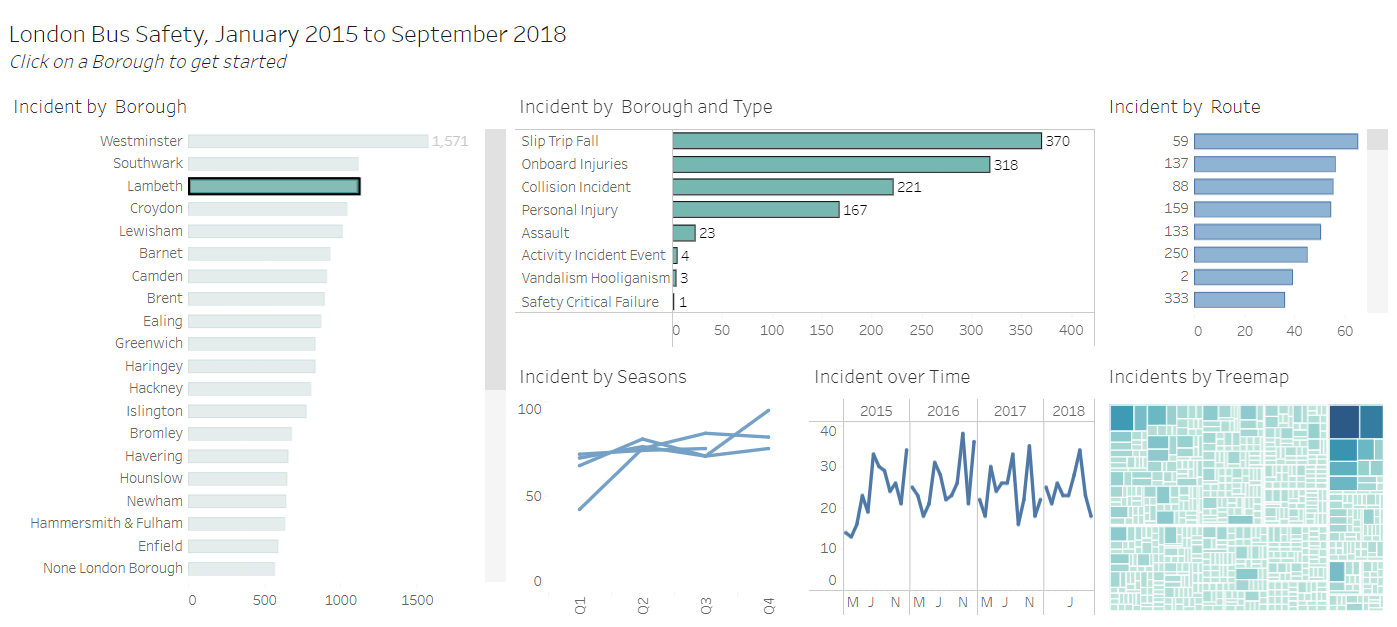

The dashboard page shown, as its layout file describes it:
{"tool":"tableau","page":{"name":"Dashboard 1","canvas":[1250,560],"ordinal":0},"visuals":[{"type":"text","box":[8,8,1234,65]},{"type":"worksheet","title":"Incident by  Borough","mark":"Bar","rows":["Borough"],"cols":["Sheet1_7AB198170AC548279C4DFE74D75E7D73"],"box":[8,73,450,479]},{"type":"worksheet","title":"Incident by  Borough and Type","mark":"Bar","rows":["Borough","Incident Event Type"],"cols":["Sheet1_7AB198170AC548279C4DFE74D75E7D73"],"box":[458,73,524,240]},{"type":"worksheet","title":"Incident by  Route","mark":"Bar","rows":["Route"],"cols":["Sheet1_7AB198170AC548279C4DFE74D75E7D73"],"box":[982,73,260,240]},{"type":"worksheet","title":"Incident by Seasons","mark":"Automatic","rows":["Sheet1_7AB198170AC548279C4DFE74D75E7D73"],"cols":["Date Of Incident"],"box":[458,313,262,239]},{"type":"worksheet","title":"Incident over Time","mark":"Automatic","rows":["Sheet1_7AB198170AC548279C4DFE74D75E7D73"],"cols":["Date Of Incident","Date Of Incident"],"box":[720,313,262,239]},{"type":"worksheet","title":"Incidents by Treemap","mark":"Automatic","box":[982,313,260,239]}]}

Visuals, with their boxes in screenshot pixels (x1, y1, x2, y2), scaled from the page's 1250x560 canvas onto the 1397x627 screenshot:
text: 9 9 1388 82
"Incident by  Borough" worksheet (Bar marks): 9 82 512 618
"Incident by  Borough and Type" worksheet (Bar marks): 512 82 1097 350
"Incident by  Route" worksheet (Bar marks): 1097 82 1388 350
"Incident by Seasons" worksheet: 512 350 805 618
"Incident over Time" worksheet: 805 350 1097 618
"Incidents by Treemap" worksheet: 1097 350 1388 618
